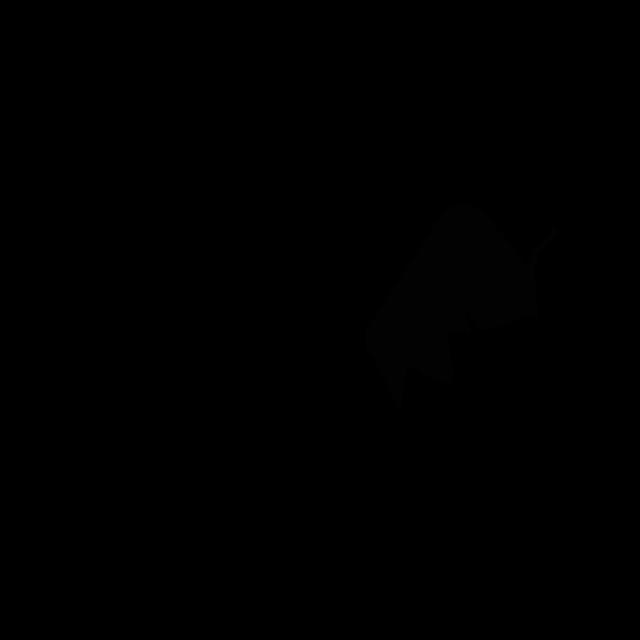cardboard: (365, 204, 557, 411)
